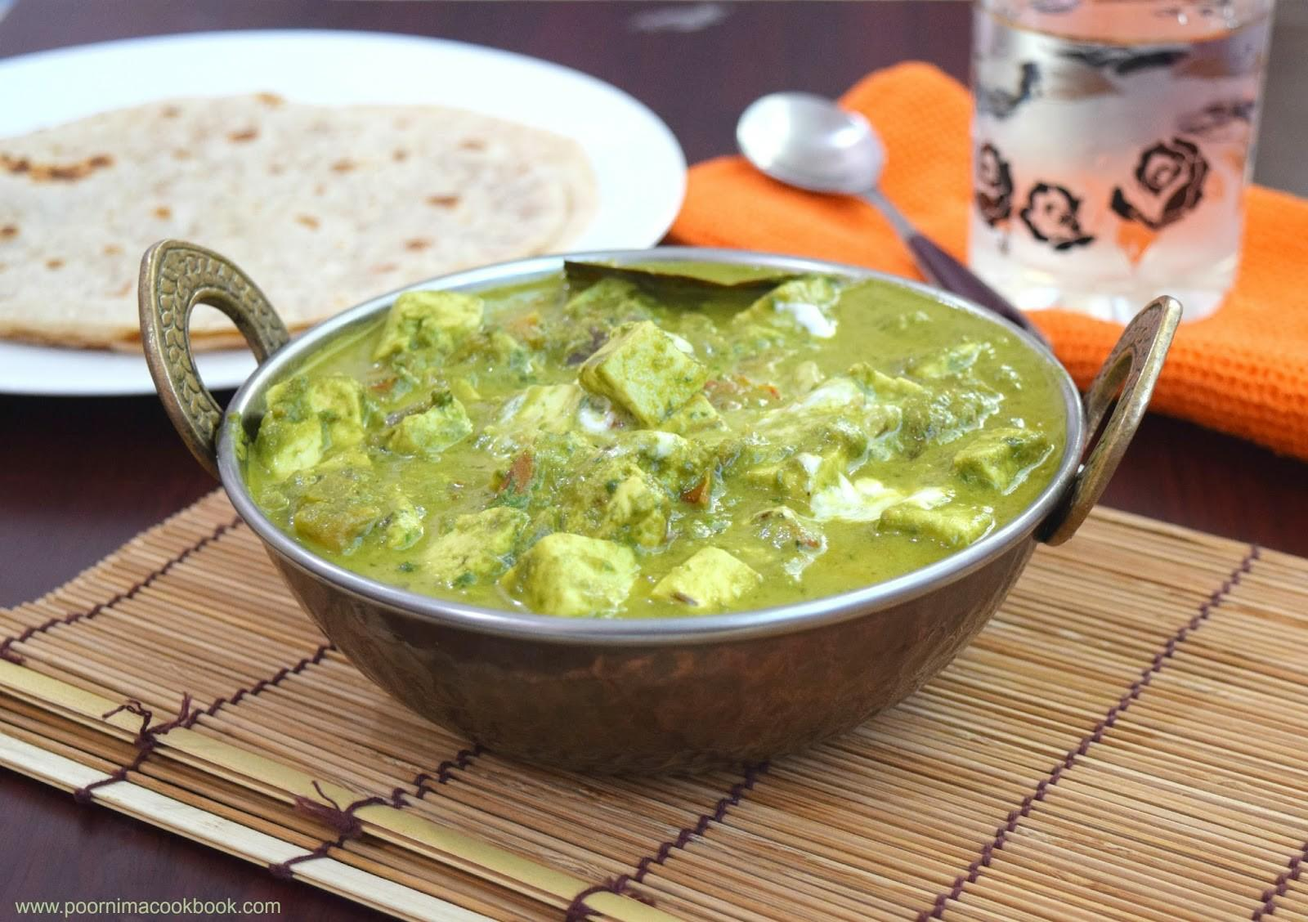PalakPaneer: (242, 249, 1069, 629)
